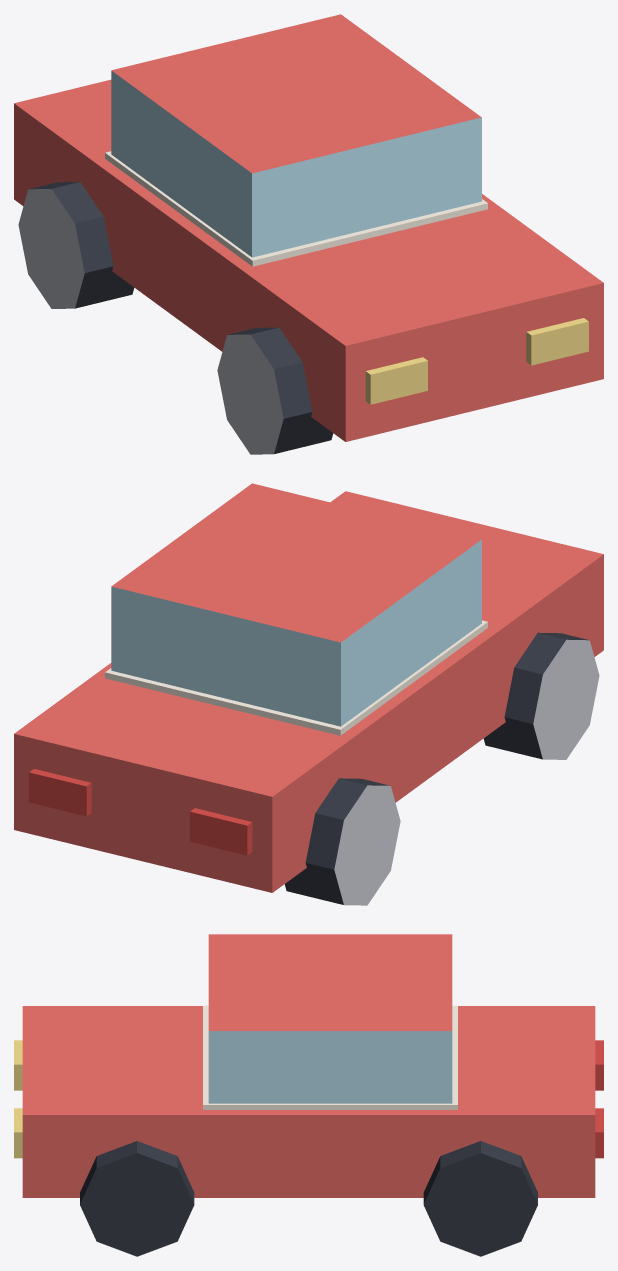
Rendered from vehicle_sedan.glb.
The picture shows the model from 3 angles, top to bottom: view 1: azimuth 30°, elevation 25°; view 2: azimuth 150°, elevation 25°; view 3: azimuth 270°, elevation 25°; orthographic projection. The views are drawn at different scales.
Visible parts, largest first — view 1: vehicle_sedan; view 2: vehicle_sedan; view 3: vehicle_sedan.
Part boxes in pixels (bbox=[...]): vehicle_sedan: bbox=[14, 14, 603, 454]; vehicle_sedan: bbox=[14, 483, 603, 905]; vehicle_sedan: bbox=[14, 934, 603, 1256].
Bounding box in the file's own units: 0.11 × 0.08 × 0.206.
